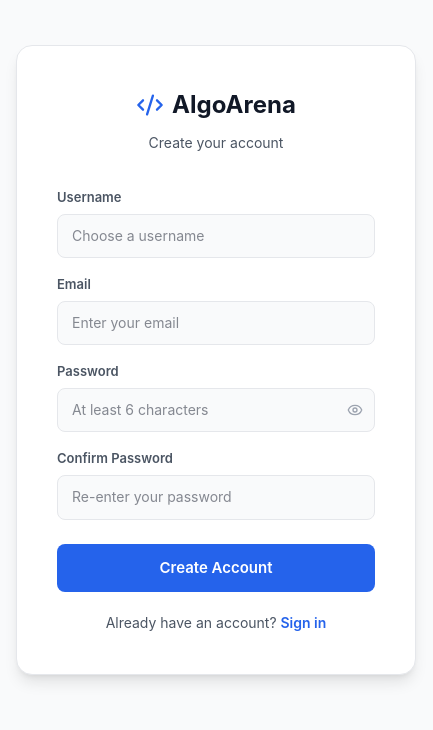
Test: Register Page › Error handling › should show fallback error message when no response data
Type "user" into the field with placeholder "Choose a username".
click(216, 236); type("user")  # box [57, 214, 375, 258]
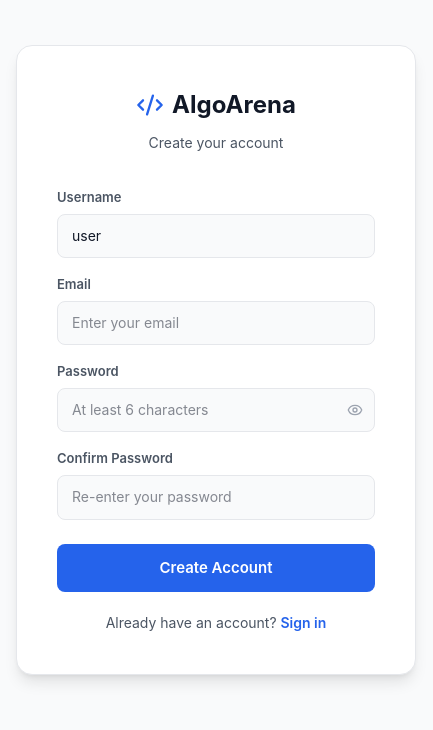
Type "a@b.com" into the field with placeholder "Enter your email".
click(216, 323); type("a@b.com")  # box [57, 301, 375, 345]
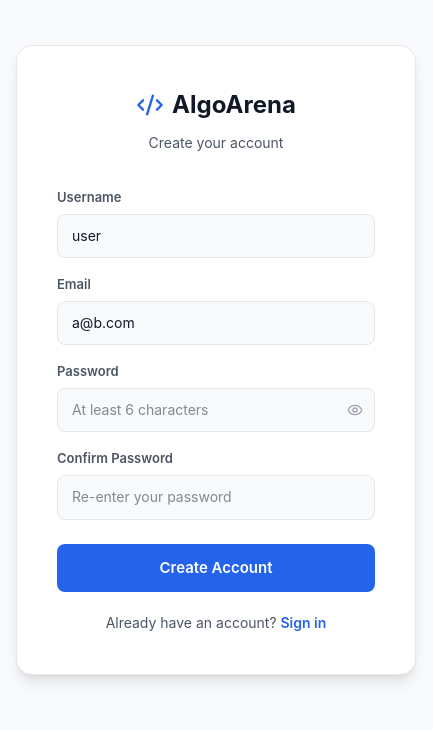
Type "pass123" into the password field with placeholder "At least 6 characters".
click(216, 410); type("pass123")  # box [57, 388, 375, 432]
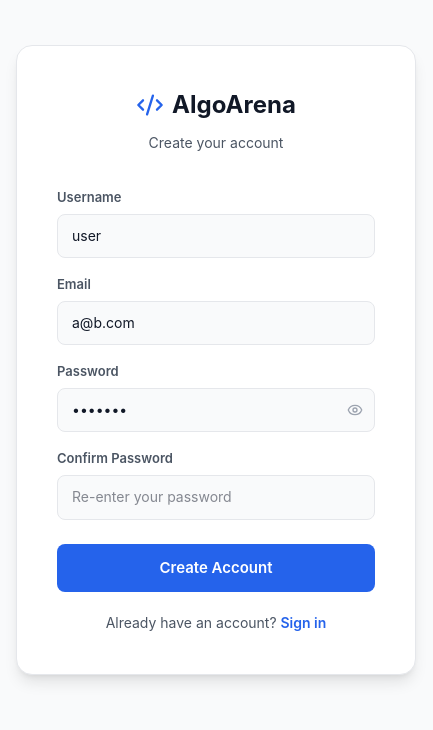
Type "pass123" into the password field with placeholder "Re-enter your password".
click(216, 497); type("pass123")  # box [57, 475, 375, 520]
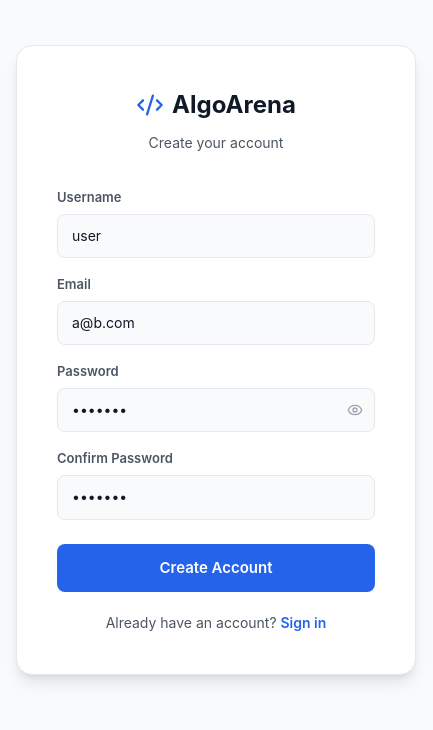
Click the button "Create Account".
click(216, 568)  # box [57, 544, 375, 592]
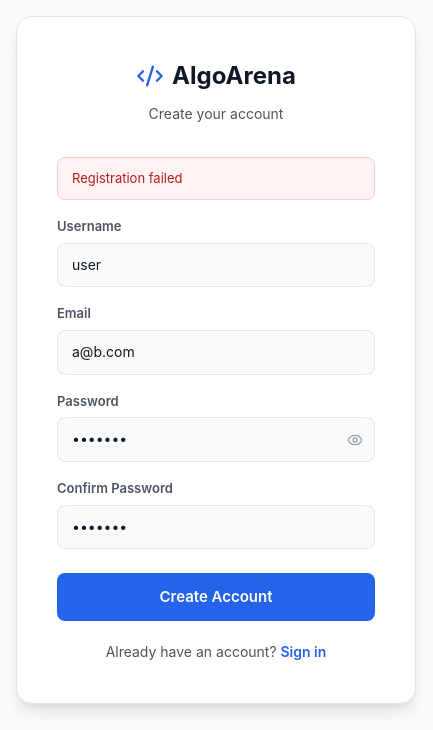
Expected: the text "Registration failed" is shown, [57, 157, 375, 200]
